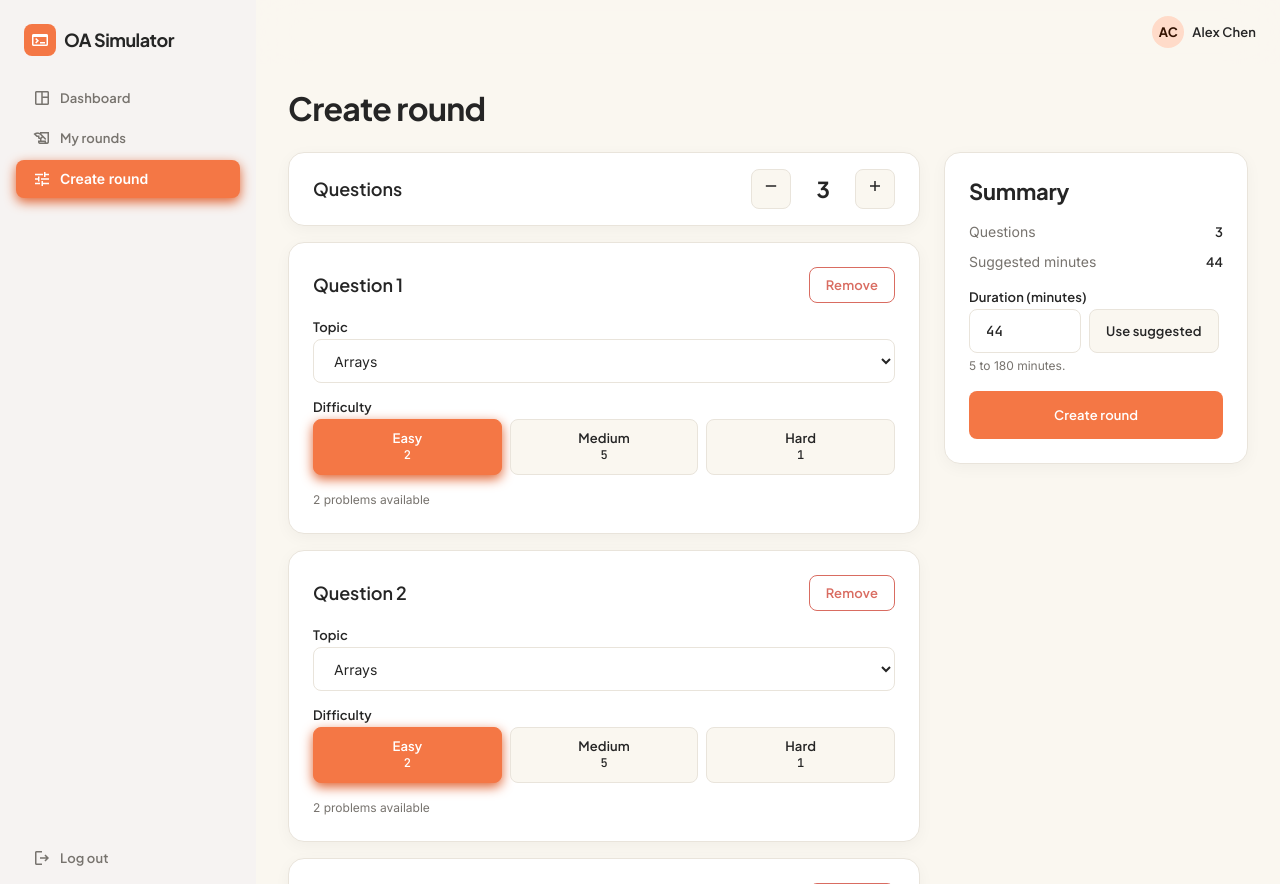
Test: S5 layout and defaults › shows how many problems are available for the chosen topic and difficulty
Expected: the element "Question 1" is shown, 288,242 -> 920,534
Expected: the 1st text "2 problems available" is shown, 313,492 -> 430,507
Click the 1st radio button labelled "Medium 5" at (604, 447), box 510,419 -> 698,475
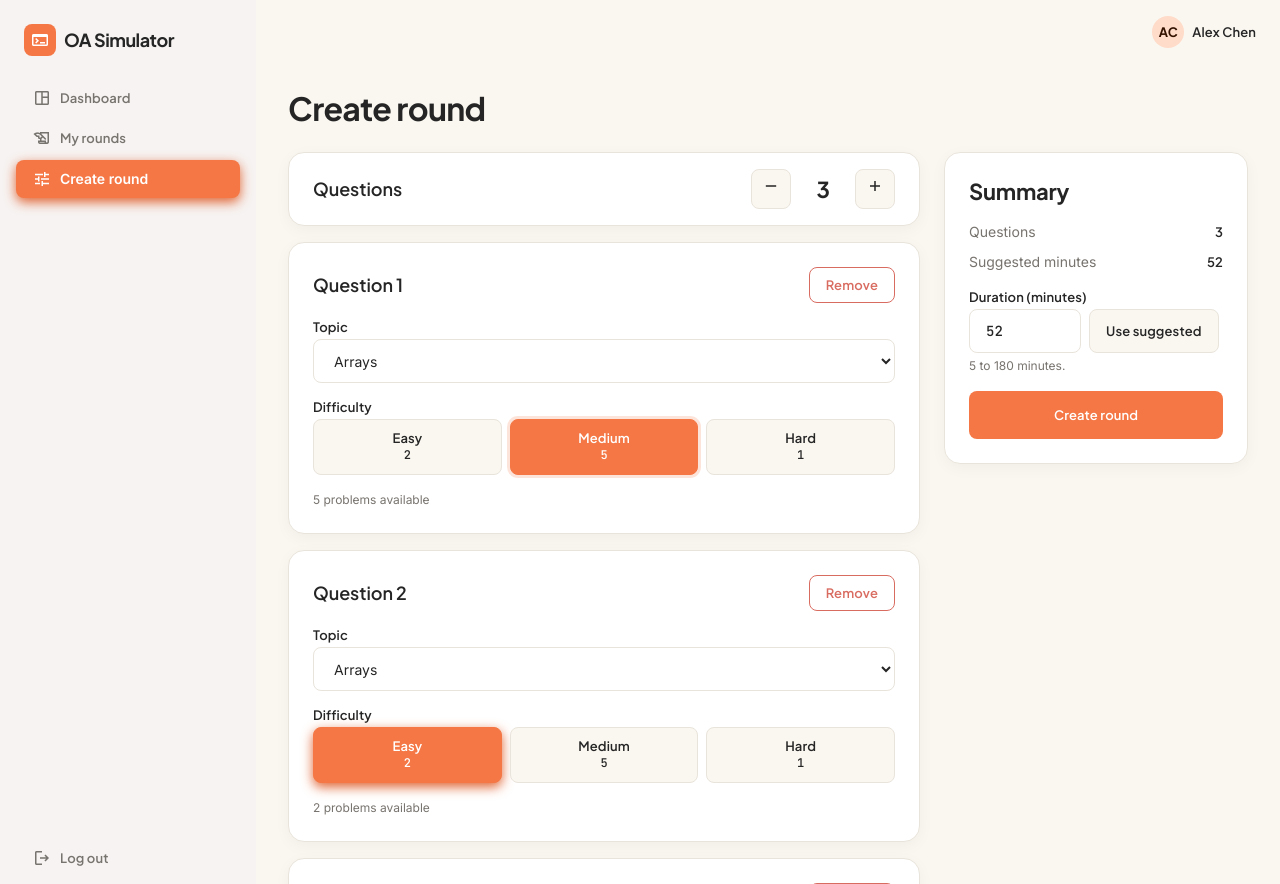
Result: the text "5 problems available" is shown at 313,492 -> 430,507
Click the 1st radio button labelled "Hard 1" at (801, 447), box 706,419 -> 895,475
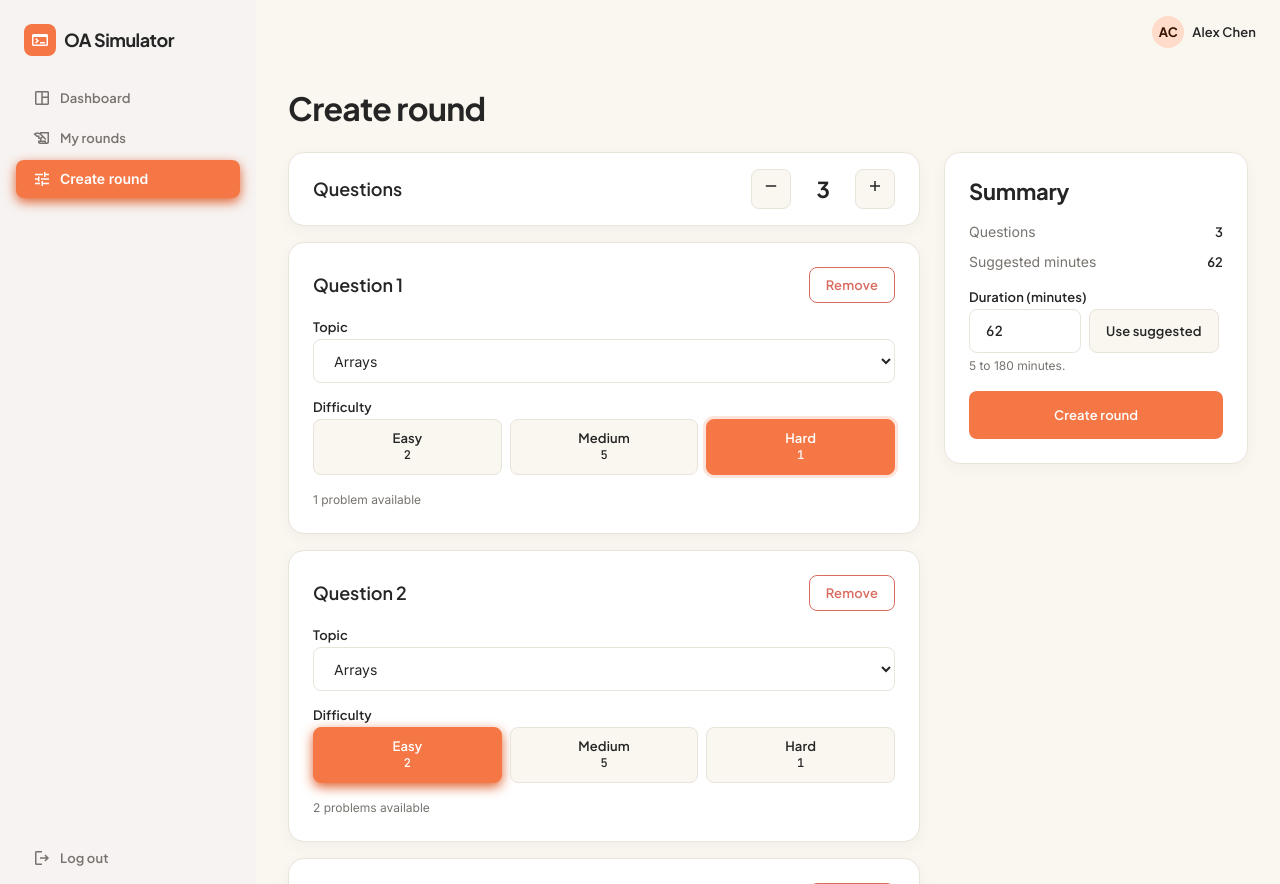
Result: the text "1 problem available" is shown at 313,492 -> 421,507
